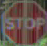Stop: (2, 2, 46, 43)
